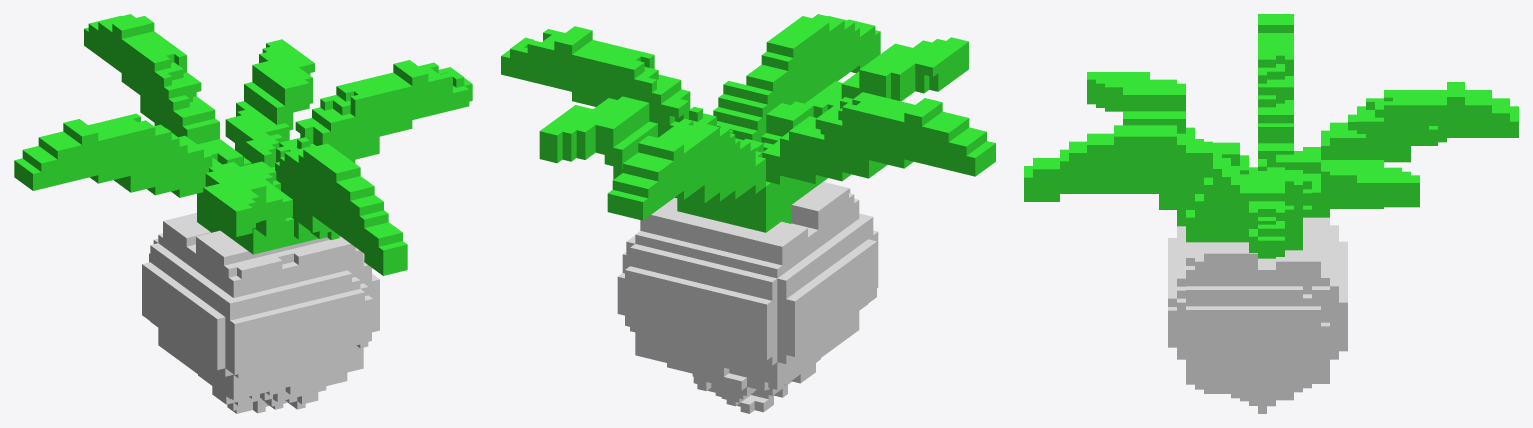
The model's file is sakurajimadaikon.glb.
The picture shows the model from 3 angles, left to right: view 1: azimuth 30°, elevation 25°; view 2: azimuth 150°, elevation 25°; view 3: azimuth 270°, elevation 25°; orthographic projection. The views are drawn at different scales.
Visible parts, largest first — view 1: Untitled; view 2: Untitled; view 3: Untitled.
Boxes of the visible parts, left/top/right/bottom form: Untitled: left=14, top=14, right=472, bottom=413; Untitled: left=501, top=14, right=995, bottom=413; Untitled: left=1024, top=14, right=1518, bottom=413.
Bounding box in the file's own units: 1.08 × 0.74 × 1.1.
Materials: 1 (1 with a texture image).
